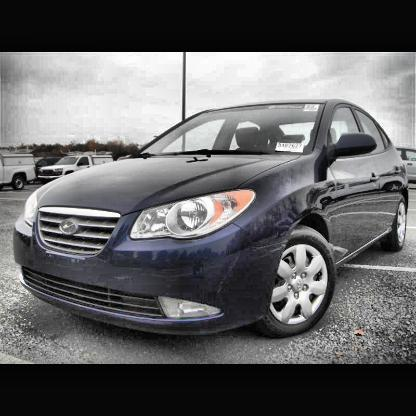Hyundai Elantra Sedan 2007: (15, 102, 409, 337)
